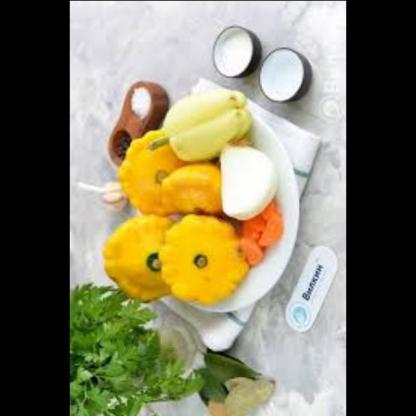bell pepper: (158, 78, 256, 166)
carrot: (229, 198, 280, 267)
onion: (218, 138, 280, 225)
squash-patisson: (151, 203, 253, 307), (90, 209, 180, 302), (106, 126, 184, 224), (152, 159, 224, 224)
